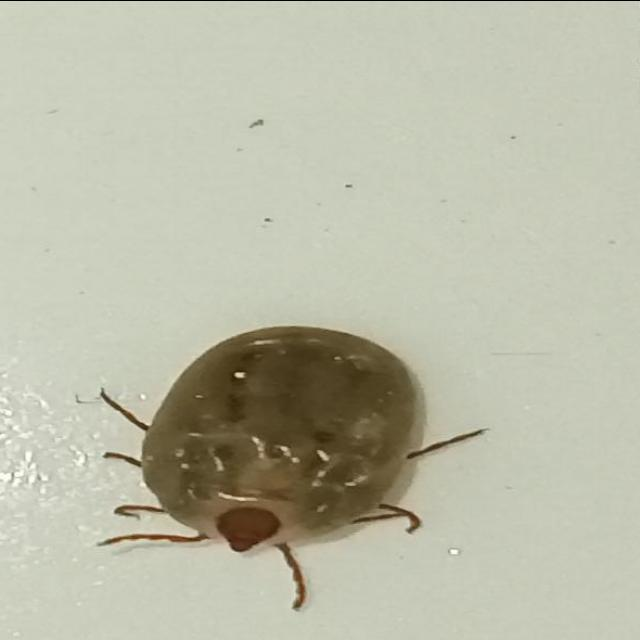Rhipicephalus Sanguineus-F-Fed: (97, 324, 484, 610)
